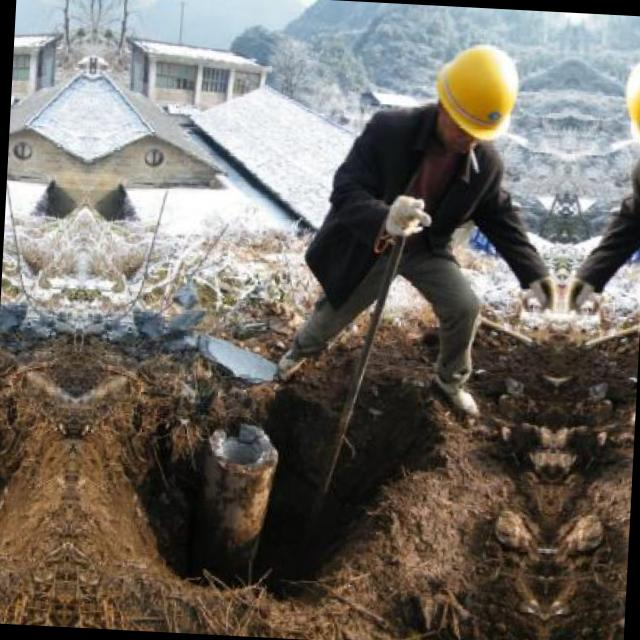helmet: (420, 37, 526, 156), (616, 47, 640, 164)
